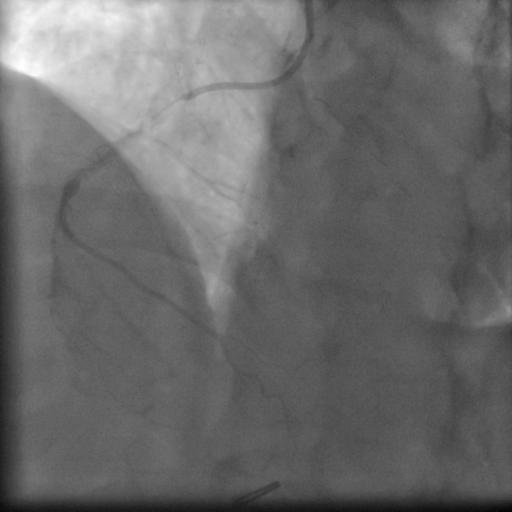Stenosis: (138, 96, 187, 129)
